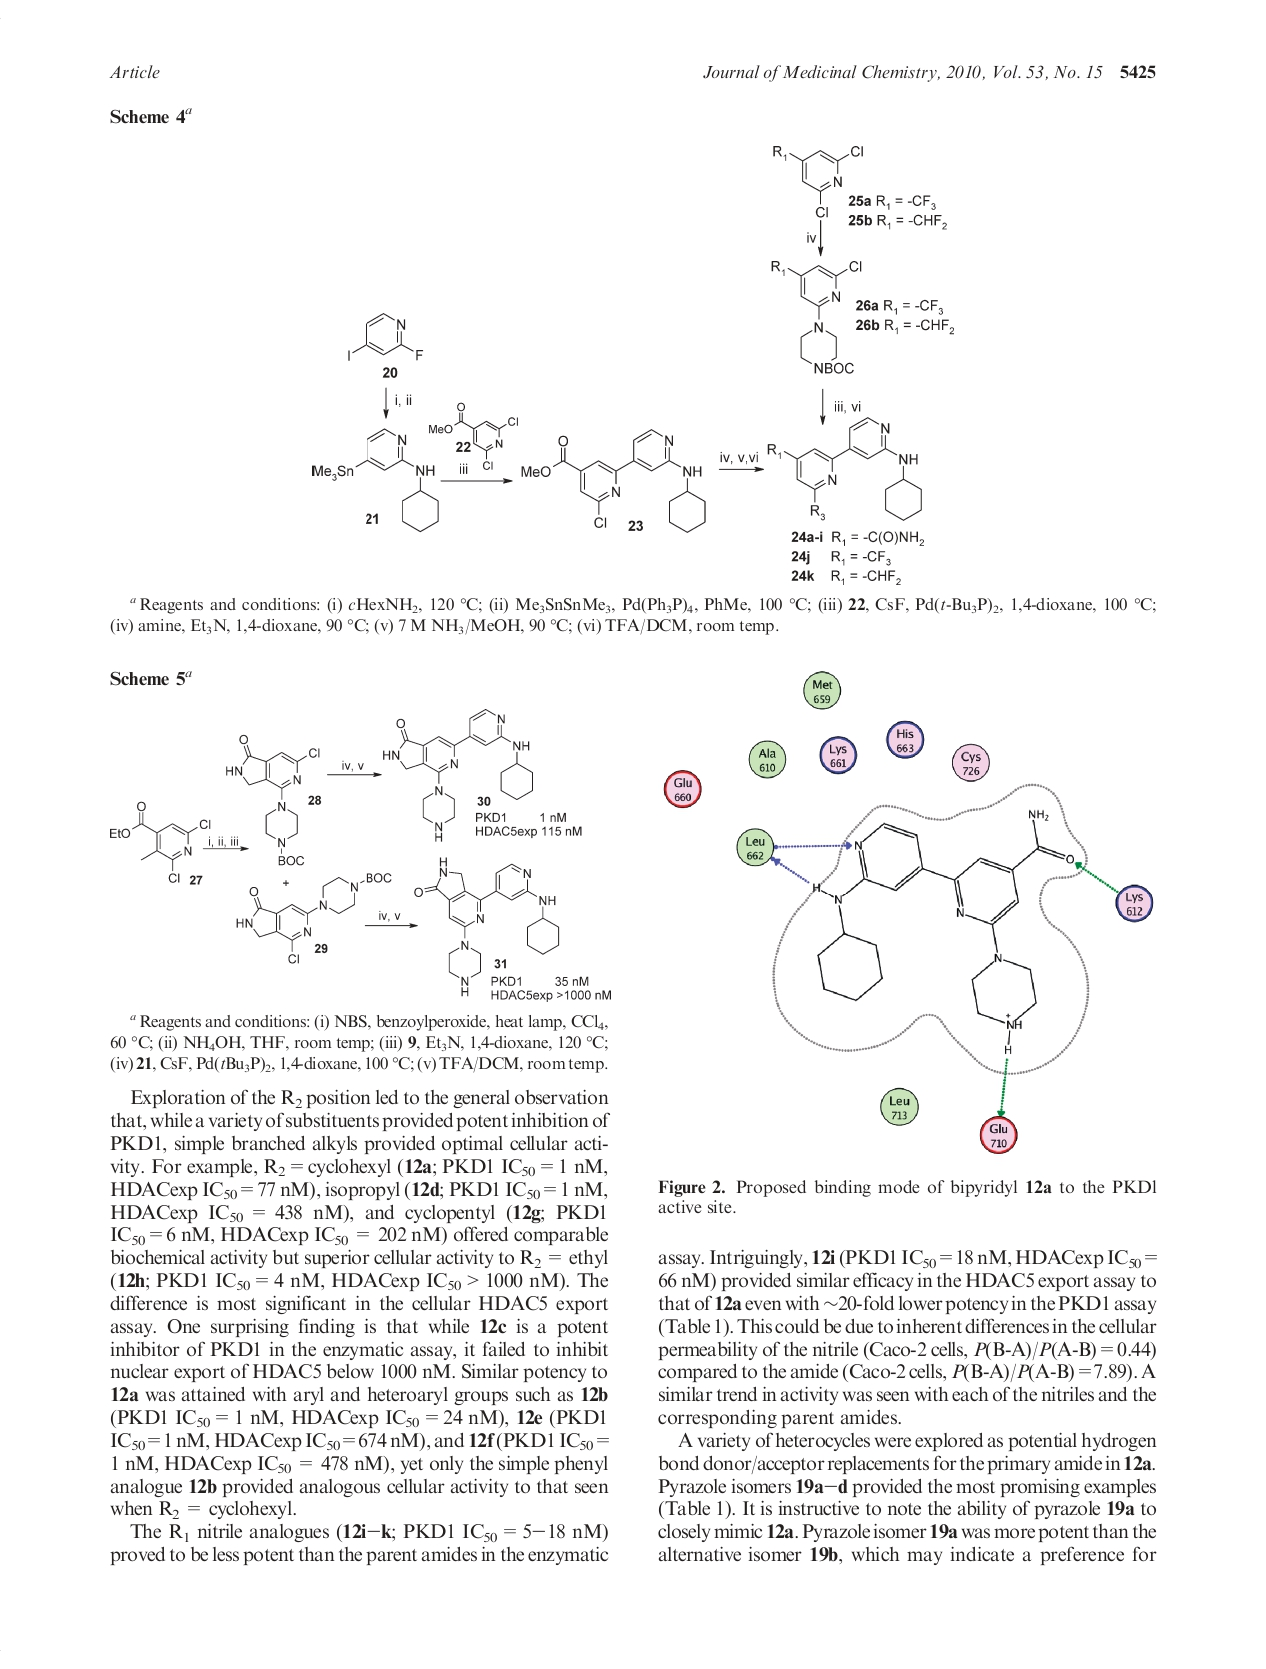exist_molecular: (806, 813, 1080, 1064), (380, 692, 539, 844), (408, 854, 565, 997), (519, 424, 715, 539), (767, 411, 931, 527), (231, 864, 402, 968), (309, 426, 442, 536), (765, 253, 868, 387), (221, 734, 327, 864), (761, 126, 863, 219), (114, 801, 219, 887), (427, 398, 521, 464), (335, 307, 434, 364)
